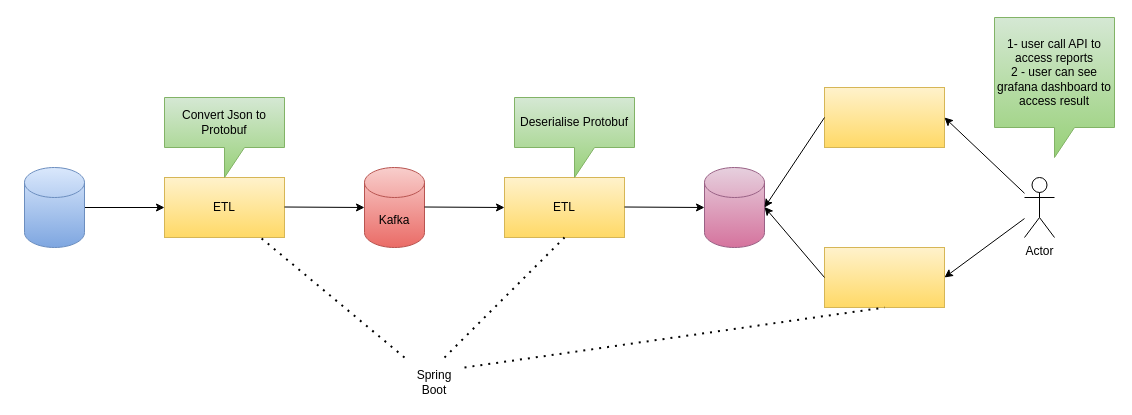
The diagram is 1132 pixels wide and 415 high, and some of its shapes have lost their labels. The shapes that lost their labels are listed below. From the top down, each one's centre as x and y in pixels, then its label:
the point at 884,117: grafana dashbaord
the point at 54,207: source
the point at 734,207: Postgres
the point at 884,277: reporter
